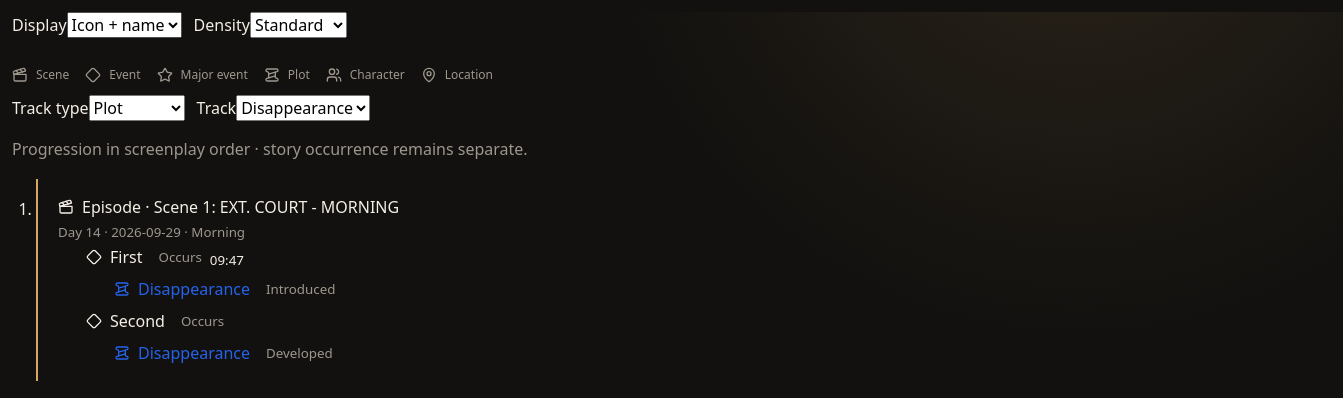
Test: preserves owning Events and suppresses matching legacy Scene effects (tracks=true)
The image size is (1343, 398).
Check: the number of buttons named "Disappearance · Introduced" is 1, box [106,273,343,305]
Check: the button with aria-label "Disappearance · Developed" is shown, box [106,337,341,369]
Select "Event" in the dropdown labelled "Track type" at (136, 108), box [88,95,184,121]
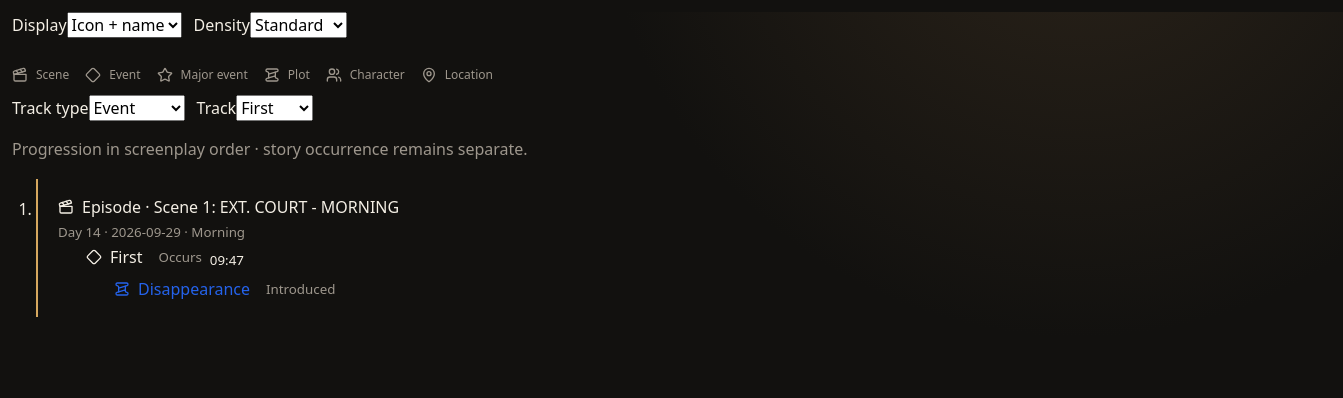
Check: the number of buttons named "First · Occurs" is 1, box [78,241,210,273]
